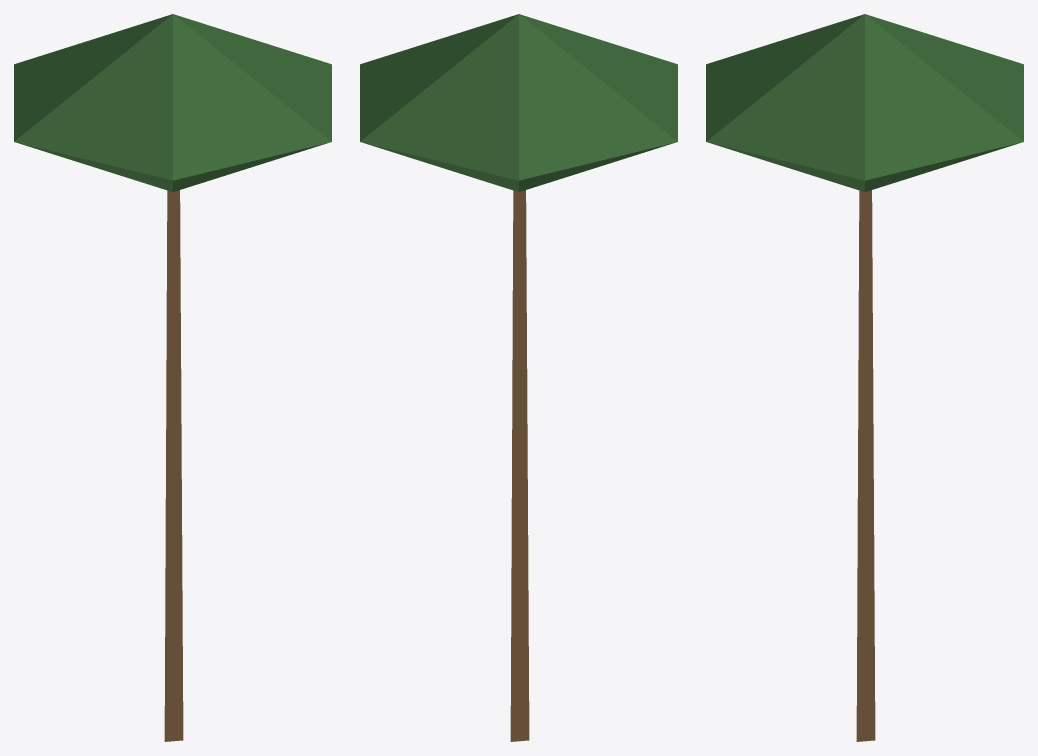
Rendered from pin_loin.glb.
3 renders of one model, left to right at view 1: azimuth 30°, elevation 25°; view 2: azimuth 150°, elevation 25°; view 3: azimuth 270°, elevation 25°, orthographic.
Parts seen in each view (by area): view 1: pin_loin; view 2: pin_loin; view 3: pin_loin.
Boxes of the visible parts, x1,y1,x2,y2 form: pin_loin: [14, 14, 331, 741]; pin_loin: [360, 14, 677, 741]; pin_loin: [706, 14, 1023, 741].
Bounding box in the file's own units: 5.6 × 12.2 × 4.85.
1 material, 1 textured.
